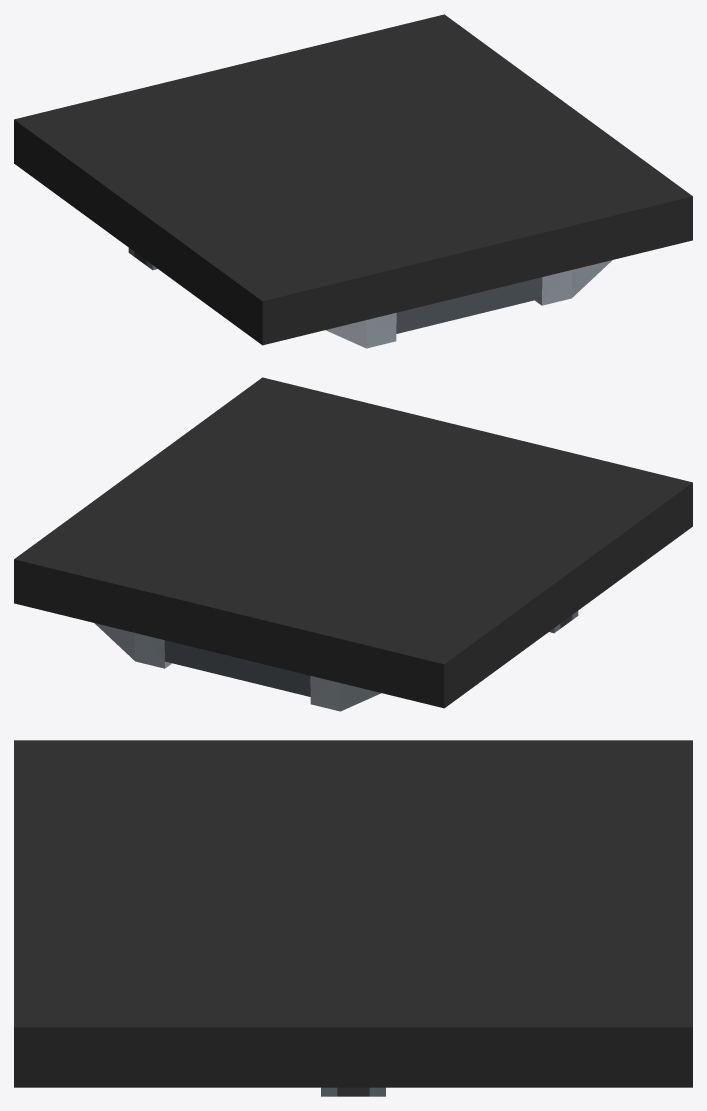
File: SM_Bld_Ceiling_02.fbx
3 renders of one model, top to bottom at view 1: azimuth 30°, elevation 25°; view 2: azimuth 150°, elevation 25°; view 3: azimuth 270°, elevation 25°, orthographic. The views are drawn at different scales.
Parts seen in each view (by area): view 1: SM_Bld_Ceiling_02; view 2: SM_Bld_Ceiling_02; view 3: SM_Bld_Ceiling_02.
Boxes of the visible parts, x1,y1,x2,y2 form: SM_Bld_Ceiling_02: (14, 14, 692, 348); SM_Bld_Ceiling_02: (14, 377, 692, 711); SM_Bld_Ceiling_02: (14, 740, 692, 1096).
Size of the model in its own units: 500 by 99.9 by 500.
Materials: 1 (1 with a texture image).
